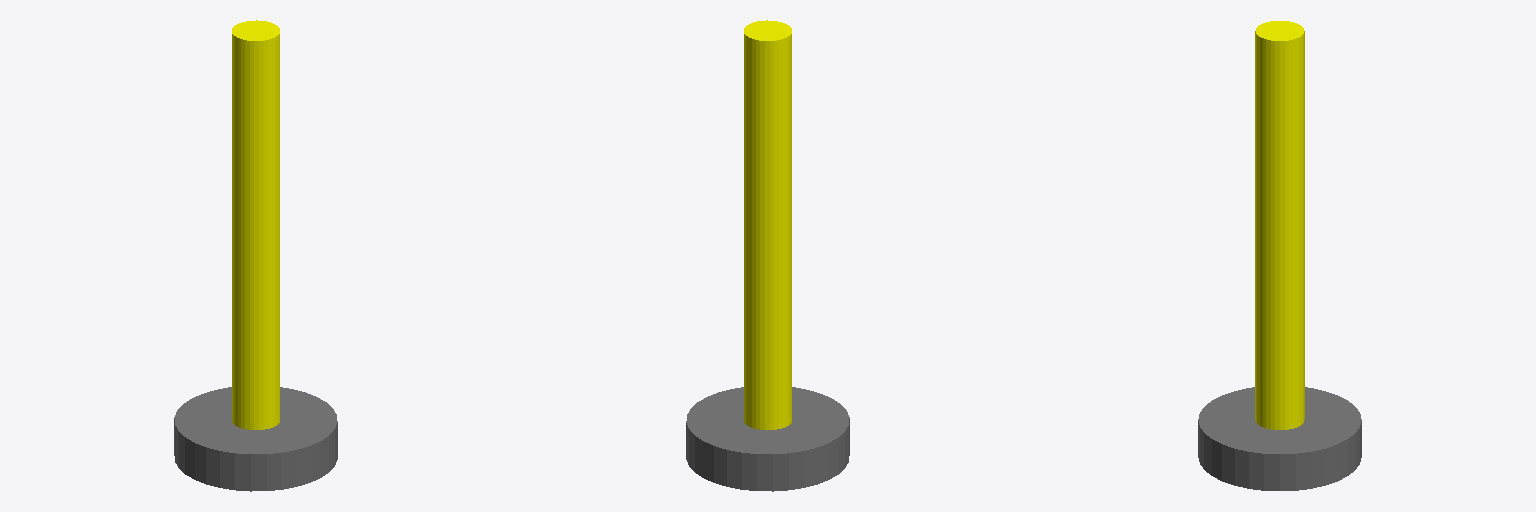
robot.urdf — rod:
<?xml version="1.0" ?>
<robot name="rod">
  <link name="rod_base_link">
    <contact>
      <restitution value="1.0"/>
      <lateral_friction value="0.5"/>
      <rolling_friction value="0.001"/>
      <contact_cfm value="0.0"/>
      <contact_erp value="1.0"/>
    </contact>
    <inertial>
      <mass value="0.2"/>
      <inertia ixx="0.0003267" ixy="0.0" ixz="0.0" iyy="0.0003267" iyz="0.0" izz="0.00009"/>
      <origin rpy="0 0 0" xyz="0 0 0"/>
    </inertial>
    <visual>
      <geometry>
        <cylinder length="0.05" radius="0.1"/>
      </geometry>
      <origin rpy="0 0 0" xyz="0 0 0"/>
       <material name="gray">
        <color rgba="0.5 0.5 0.5 1"/>
      </material>
    </visual>
    <collision>
      <origin rpy="0 0 0" xyz="0 0 0"/>
      <geometry>
        <cylinder length="0.05" radius="0.1"/>
      </geometry>
    </collision>
  </link>
  <joint name="base_to_rod" type="fixed">
    <parent link="rod_base_link"/>
    <child link="rod_link"/>
    <origin xyz="0 0 0.275" rpy="0 0 0"/>
  </joint>
  <link name="rod_link">
    <inertial>
      <origin rpy="0 0 0" xyz="0 0 0"/>
      <mass value="0.01"/>
      <inertia ixx="0.0001" ixy="0" ixz="0" iyy="0.0001" iyz="0" izz="0.0001"/>
    </inertial>
    <visual>
      <origin rpy="0 0 0" xyz="0 0 0"/>
      <geometry>
        <cylinder length="0.55" radius="0.03"/>
      </geometry>
       <material name="yellow">
        <color rgba="1 1 0 1"/>
      </material>
    </visual>
    <collision>
      <origin rpy="0 0 0" xyz="0 0 0"/>
      <geometry>
        <cylinder length="0.55" radius="0.03"/>
      </geometry>
    </collision>
  </link>
</robot>

--- Render facts (derived) ---
Views: 3 orthographic renders of the robot side by side, from view 1: azimuth 30°, elevation 25°; view 2: azimuth 150°, elevation 25°; view 3: azimuth 270°, elevation 25°.
Model rod with 2 links and 1 joints (1 fixed), rooted at rod_base_link, posed all joints at 0.
Visible links, largest first — view 1: rod_link, rod_base_link; view 2: rod_link, rod_base_link; view 3: rod_link, rod_base_link.
Boxes of the visible links, box(x1,y1,x2,y2) form: rod_link: box(232, 20, 279, 429); rod_base_link: box(174, 387, 337, 491); rod_link: box(744, 20, 791, 429); rod_base_link: box(686, 387, 849, 491); rod_link: box(1255, 21, 1304, 429); rod_base_link: box(1198, 387, 1361, 490).
Bounding box of the posed robot: 0.2 × 0.2 × 0.575 m (x, y, z).
Geometry: primitives only (box / cylinder / sphere), no mesh files.